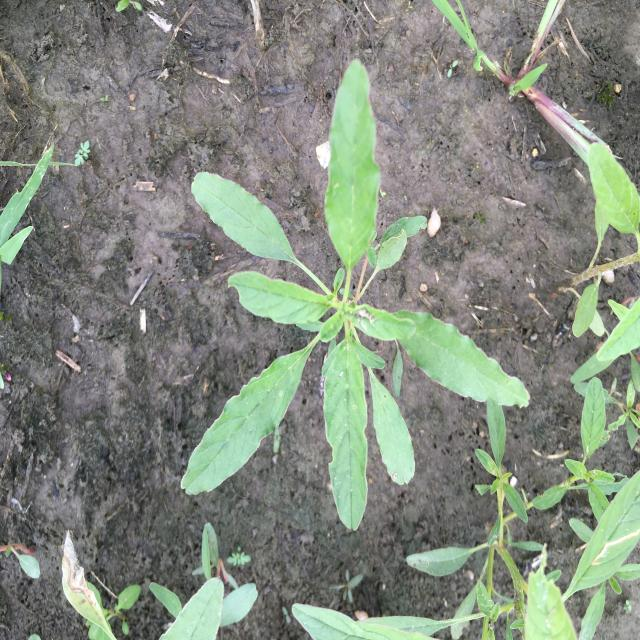Waterhemp: (290, 140, 638, 640), (178, 55, 532, 535), (139, 524, 261, 637)
